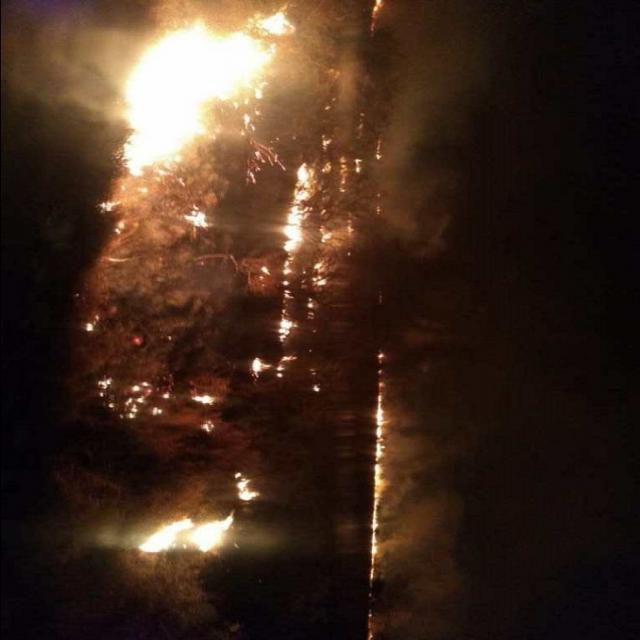Fire: (100, 8, 294, 232), (140, 473, 262, 558), (276, 169, 316, 341), (369, 394, 392, 582), (96, 370, 170, 420), (252, 354, 296, 380), (336, 154, 354, 194), (314, 260, 328, 288), (193, 392, 221, 404), (344, 215, 356, 241), (318, 224, 332, 243), (370, 2, 385, 18), (368, 608, 376, 638), (375, 140, 386, 160), (354, 154, 364, 176), (318, 136, 334, 148)
